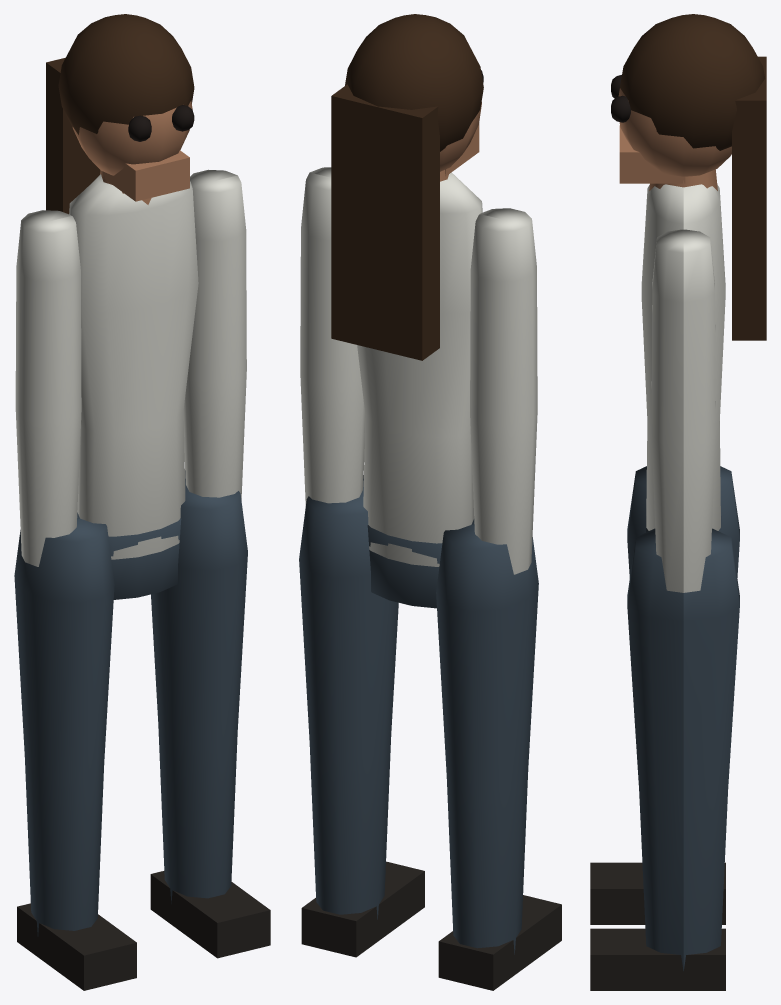
File: survivor_elena.glb
3 renders of one model, left to right at view 1: azimuth 30°, elevation 25°; view 2: azimuth 150°, elevation 25°; view 3: azimuth 270°, elevation 25°, orthographic. The views are drawn at different scales.
Parts seen in each view (by area): view 1: survivor_elena; view 2: survivor_elena; view 3: survivor_elena.
Part boxes in pixels (left/top/right/bottom): survivor_elena: left=14, top=14, right=270, bottom=990; survivor_elena: left=299, top=14, right=561, bottom=990; survivor_elena: left=590, top=14, right=766, bottom=990.
Size of what is drawn, in the model's own units: 0.4612 by 1.8 by 0.3119.
